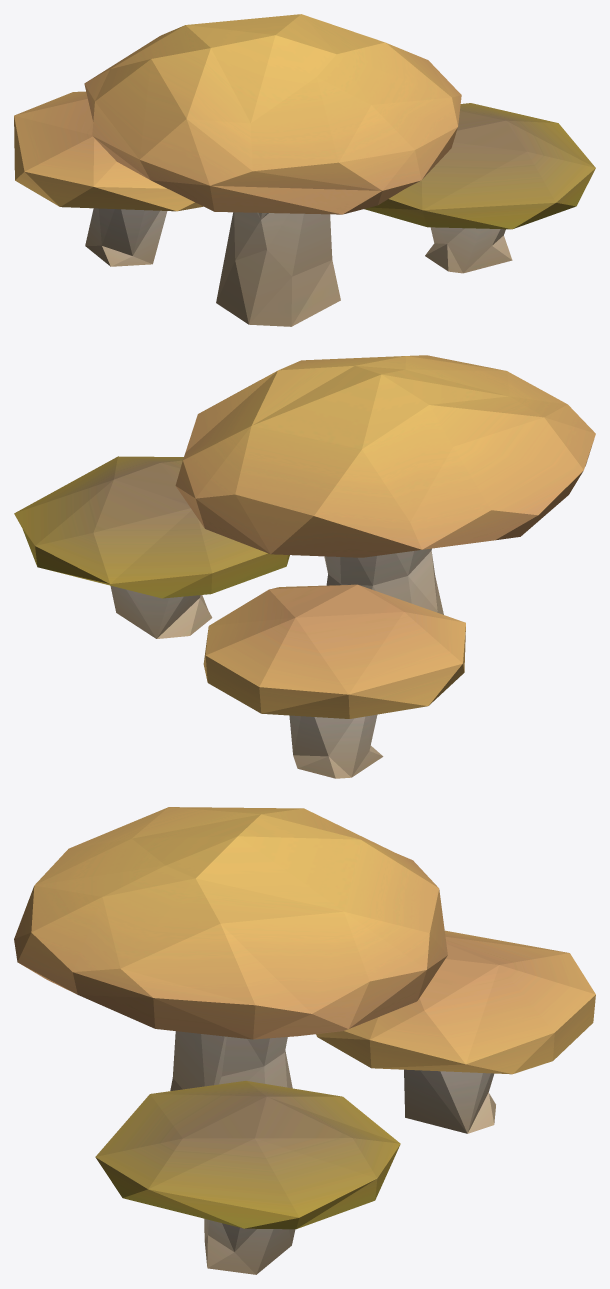
3 renders of one model, top to bottom at view 1: azimuth 30°, elevation 25°; view 2: azimuth 150°, elevation 25°; view 3: azimuth 270°, elevation 25°, orthographic. The views are drawn at different scales.
Visible parts, largest first — view 1: MushroomsYellow; view 2: MushroomsYellow; view 3: MushroomsYellow.
Boxes of the visible parts, x1,y1,x2,y2 form: MushroomsYellow: [14, 14, 595, 326]; MushroomsYellow: [14, 355, 595, 778]; MushroomsYellow: [14, 807, 595, 1274].
Size of the model in its own units: 2.8 by 1.53 by 2.62.
Materials: 1 (1 with a texture image).
